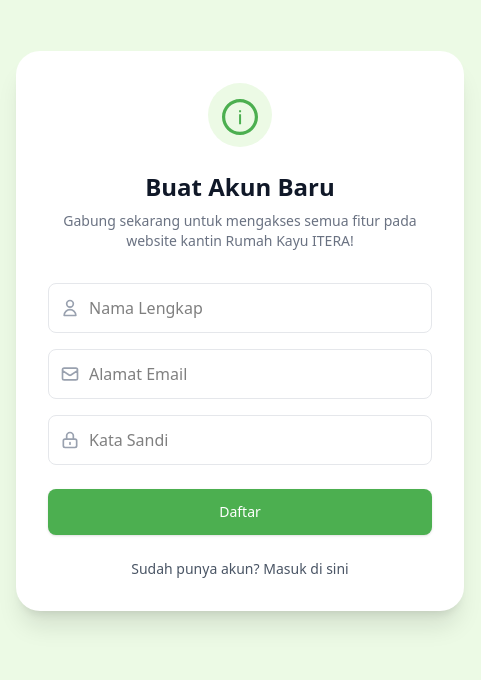
Register › should display default error message when registration fails without specific error
The width and height of the screenshot is (481, 680).
Type "John Doe" into the field with placeholder "Nama Lengkap". click: (240, 308)
box: [48,283,432,333]
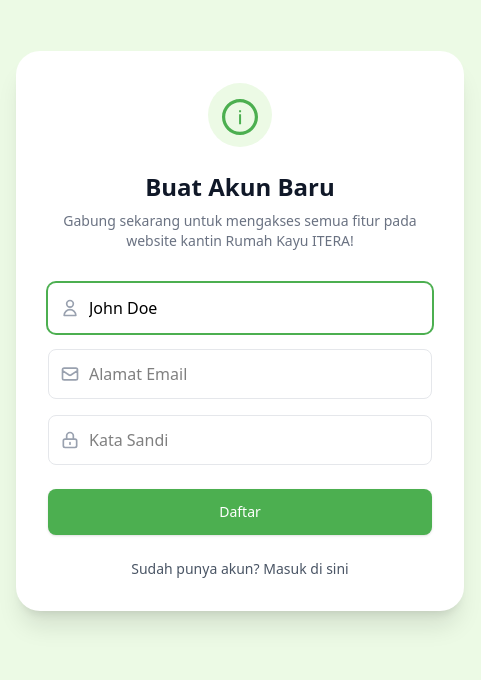
Type "john@example.com" into the field with placeholder "Alamat Email". click: (240, 374)
box: [48,349,432,399]
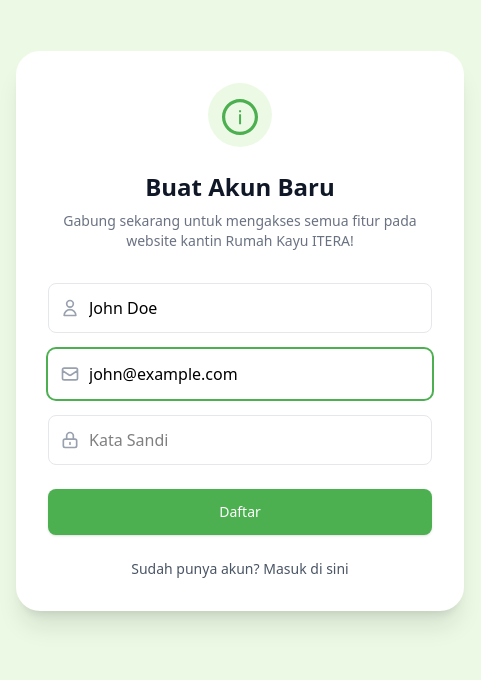
Type "password123" into the password field with placeholder "Kata Sandi". click: (240, 440)
box: [48,415,432,465]
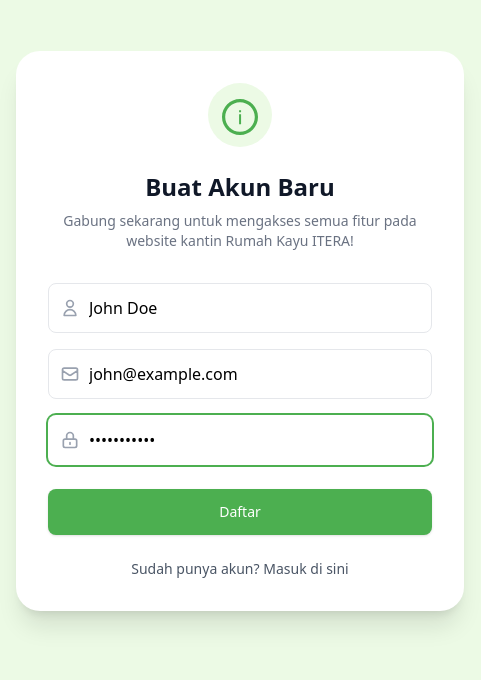
Click the button "Daftar". click: (240, 512)
box: [48,489,432,535]
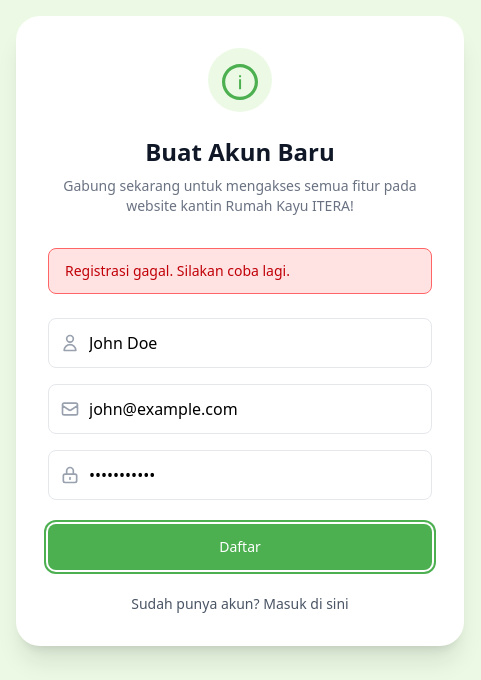
expect the text "Registrasi gagal. Silakan coba lagi." is shown: met, box [48,248,432,294]
